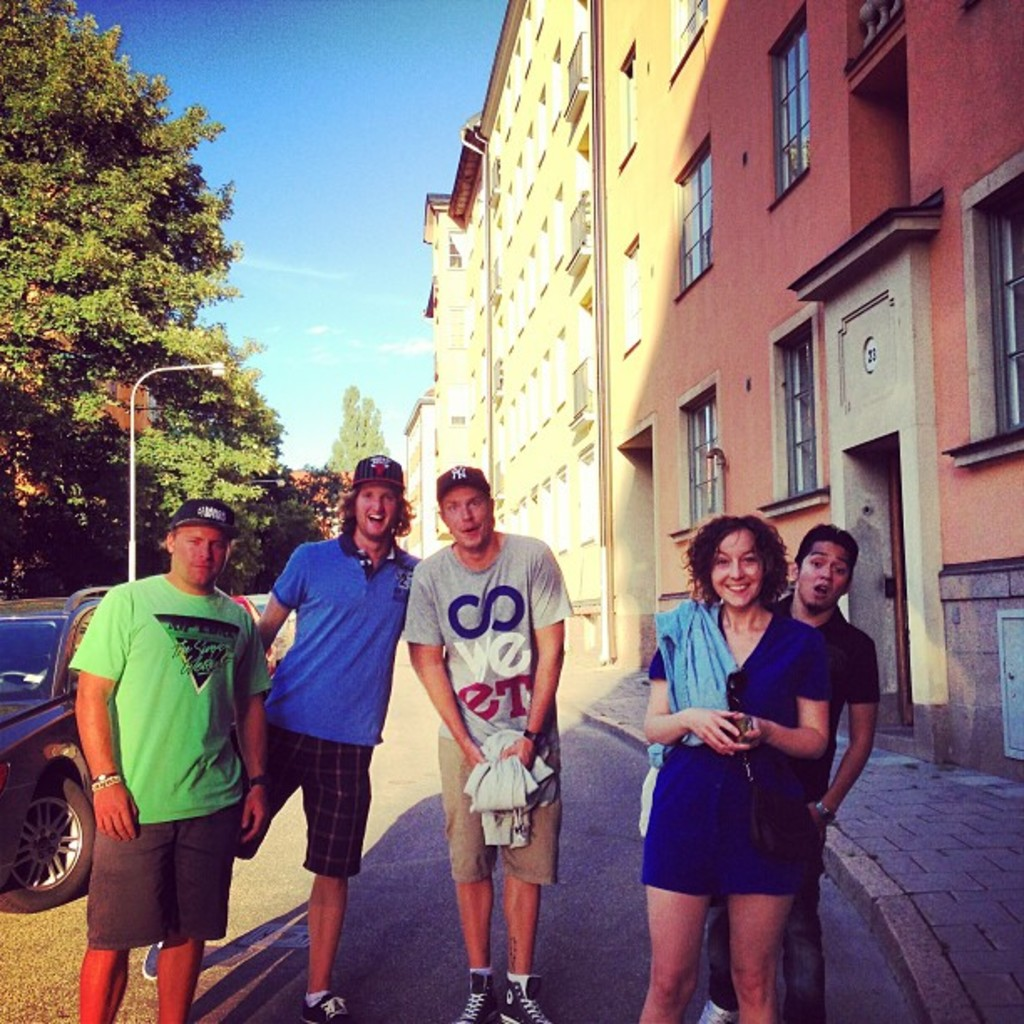Footwear: (489, 975, 552, 1022), (458, 972, 500, 1022), (298, 996, 346, 1022), (139, 937, 166, 982), (688, 1001, 736, 1022)
